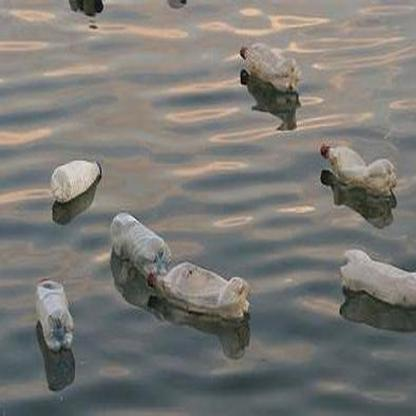plastic bottle: (147, 262, 249, 319), (340, 249, 416, 308), (321, 142, 397, 198), (111, 212, 170, 277), (33, 277, 74, 351), (239, 44, 301, 91), (51, 159, 102, 202)
